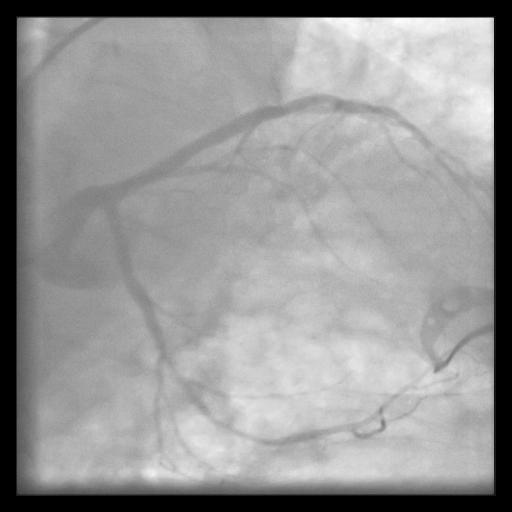Stenosis: (159, 348, 184, 387)
